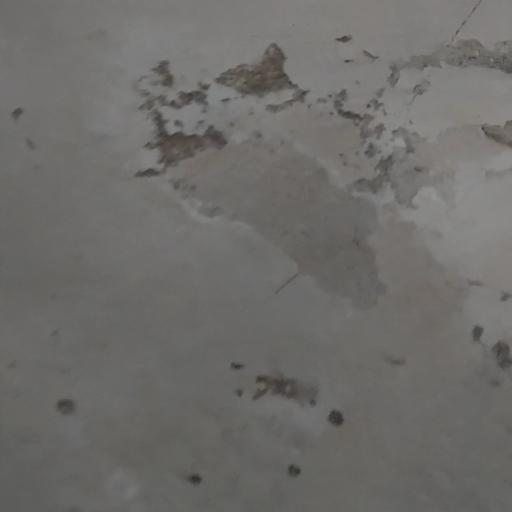spalling: (130, 24, 452, 301)
